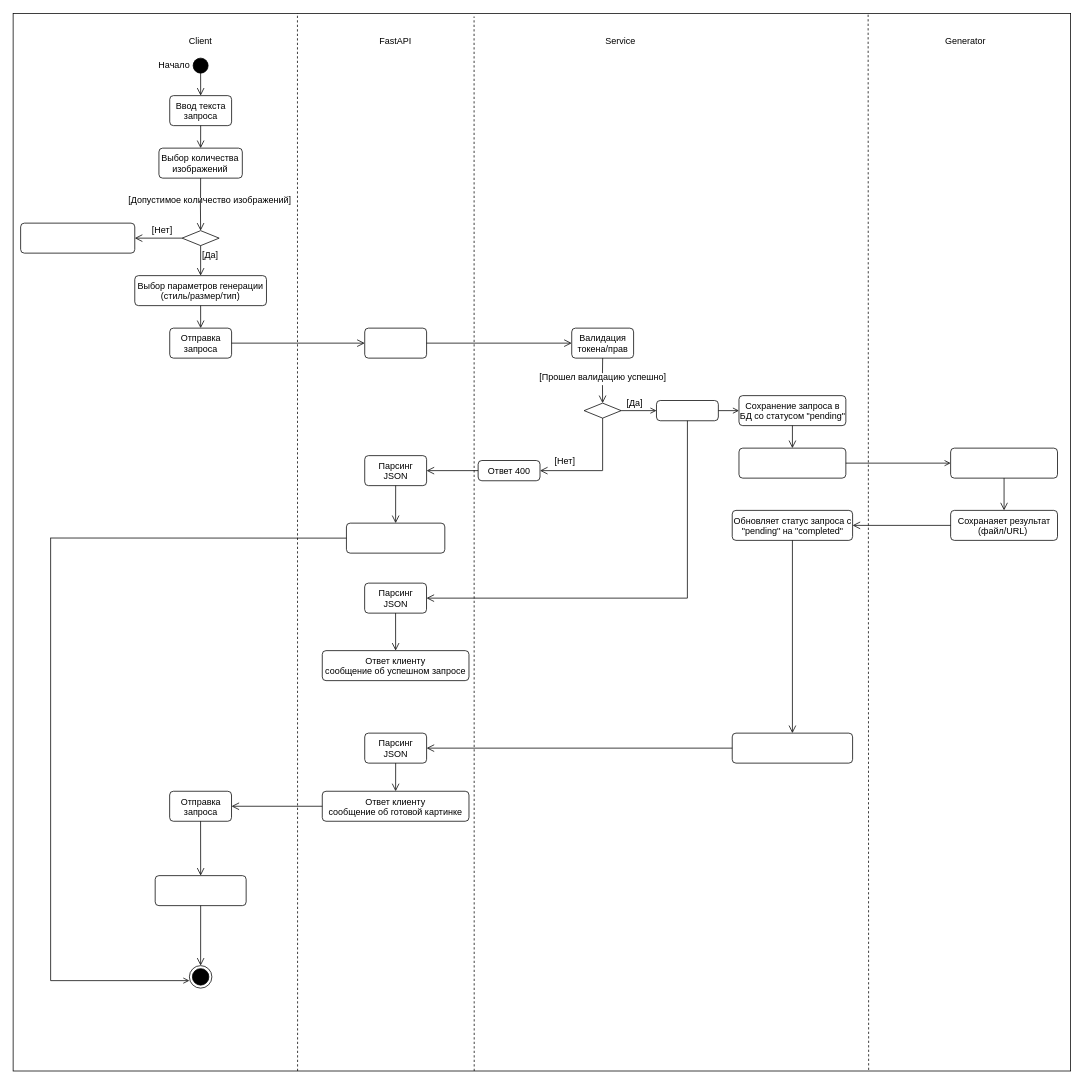
Some shapes in this 1084 by 1085 pixel diagram are drawn without their labels. The centre of each missing label's shape, as x and y in pixels:
"Обновление JSON ответа для клиента" goes at [792,747].
"Ответ 200" goes at [687,410].
"Ответ клиенту сообщение об ошибке" goes at [395,537].
"Ошибка недопустимое количество изображений" goes at [77,237].
"Получение запроса" goes at [395,342].
"Принимает задачу, генерирует изображение" goes at [1004,462].
"Публикация задачи в очередь" goes at [792,462].
"Скачать картинку(файл/URL)" goes at [200,890].
